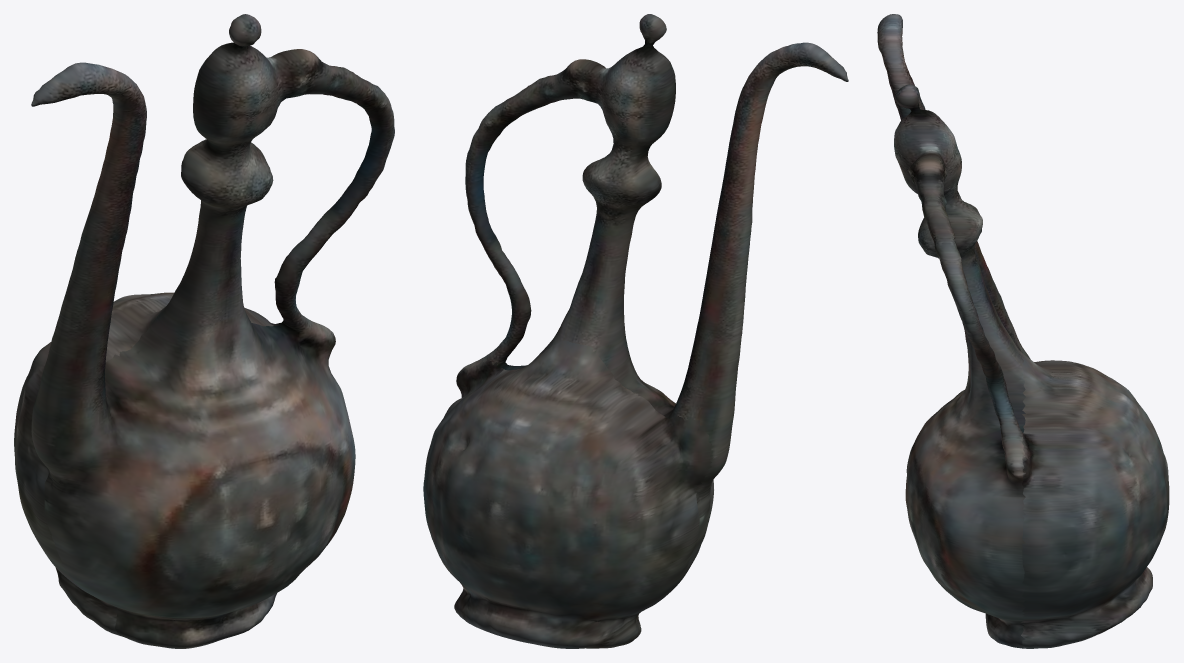
The model's file is kfl-2240.glb.
3 renders of one model, left to right at view 1: azimuth 30°, elevation 25°; view 2: azimuth 150°, elevation 25°; view 3: azimuth 270°, elevation 25°, orthographic. The views are drawn at different scales.
Visible parts, largest first — view 1: geometry_0; view 2: geometry_0; view 3: geometry_0.
Boxes of the visible parts, x1=… form: geometry_0: x1=14, y1=14, x2=394, y2=648; geometry_0: x1=423, y1=14, x2=848, y2=648; geometry_0: x1=877, y1=14, x2=1169, y2=648.
Bounding box in the file's own units: 0.622 × 0.9908 × 0.4879.
1 material, 1 textured.
